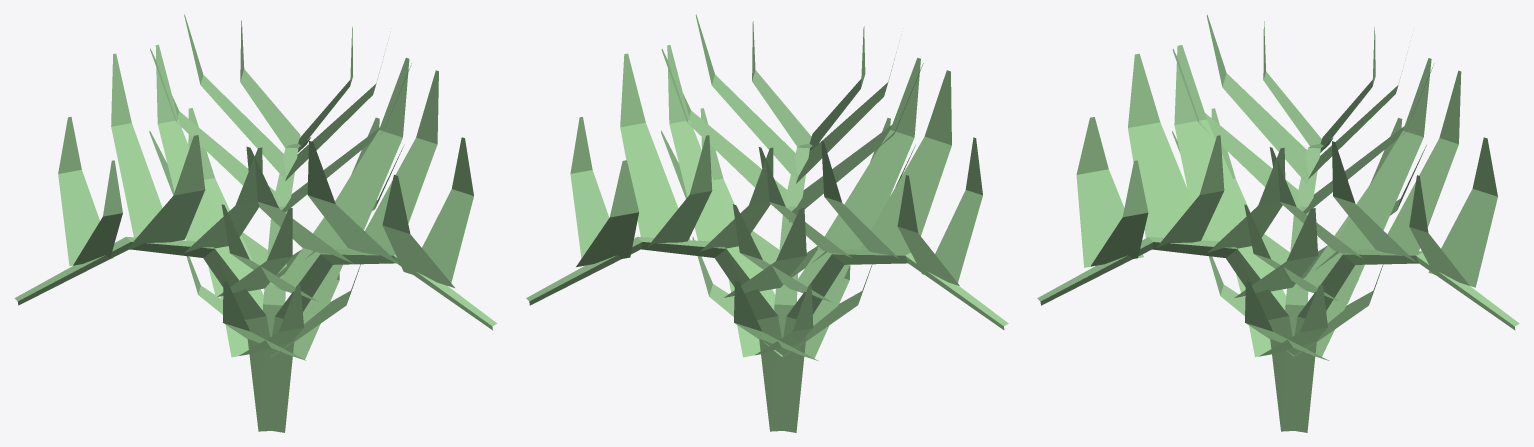
Rendered from fern_single.glb.
3 renders of one model, left to right at view 1: azimuth 30°, elevation 25°; view 2: azimuth 150°, elevation 25°; view 3: azimuth 270°, elevation 25°, orthographic.
Visible parts, largest first — view 1: fern-single; view 2: fern-single; view 3: fern-single.
Boxes of the visible parts, x1,y1,x2,y2 form: fern-single: (14, 14, 496, 432); fern-single: (526, 14, 1008, 432); fern-single: (1037, 14, 1519, 432).
Size of the model in its own units: 0.4035 by 0.353 by 0.4348.
